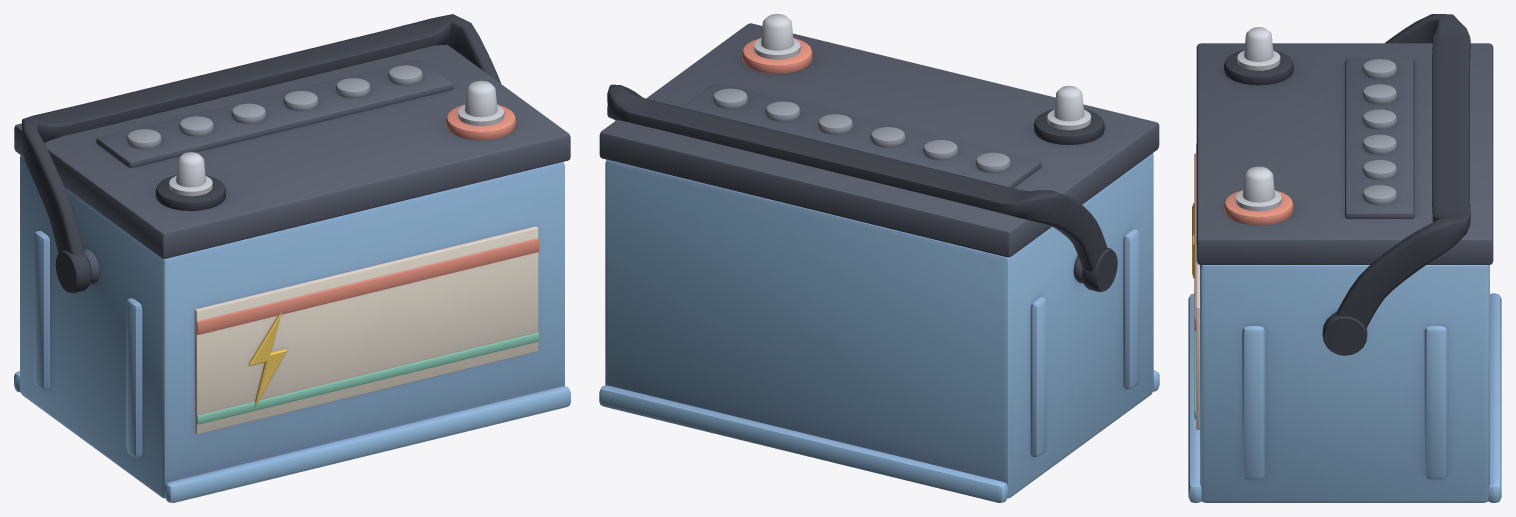
The model's file is car-battery.glb.
3 views of the same model, side by side, from view 1: azimuth 30°, elevation 25°; view 2: azimuth 150°, elevation 25°; view 3: azimuth 270°, elevation 25° (orthographic).
Parts seen in each view (by area): view 1: car-battery_body, car-battery_handle; view 2: car-battery_body, car-battery_handle; view 3: car-battery_body, car-battery_handle.
Part boxes in pixels (left/top/right/bottom): car-battery_body: left=14, top=44, right=570, bottom=502; car-battery_handle: left=22, top=14, right=501, bottom=293; car-battery_body: left=599, top=14, right=1159, bottom=502; car-battery_handle: left=607, top=84, right=1117, bottom=292; car-battery_body: left=1188, top=27, right=1501, bottom=502; car-battery_handle: left=1322, top=14, right=1470, bottom=355.
Bounding box in the file's own units: 0.312 × 0.205 × 0.189.
Materials: 2 (2 with a texture image).
